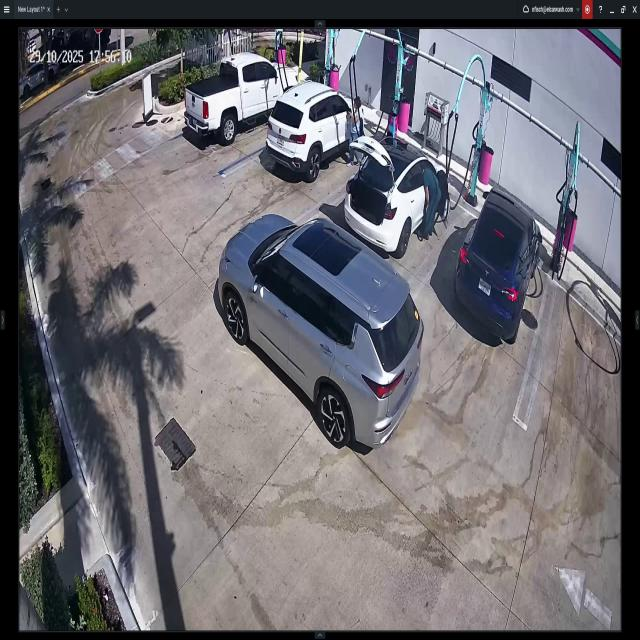Car: (218, 211, 422, 454), (456, 188, 538, 350), (344, 135, 450, 246), (186, 58, 300, 143), (266, 90, 358, 176)
